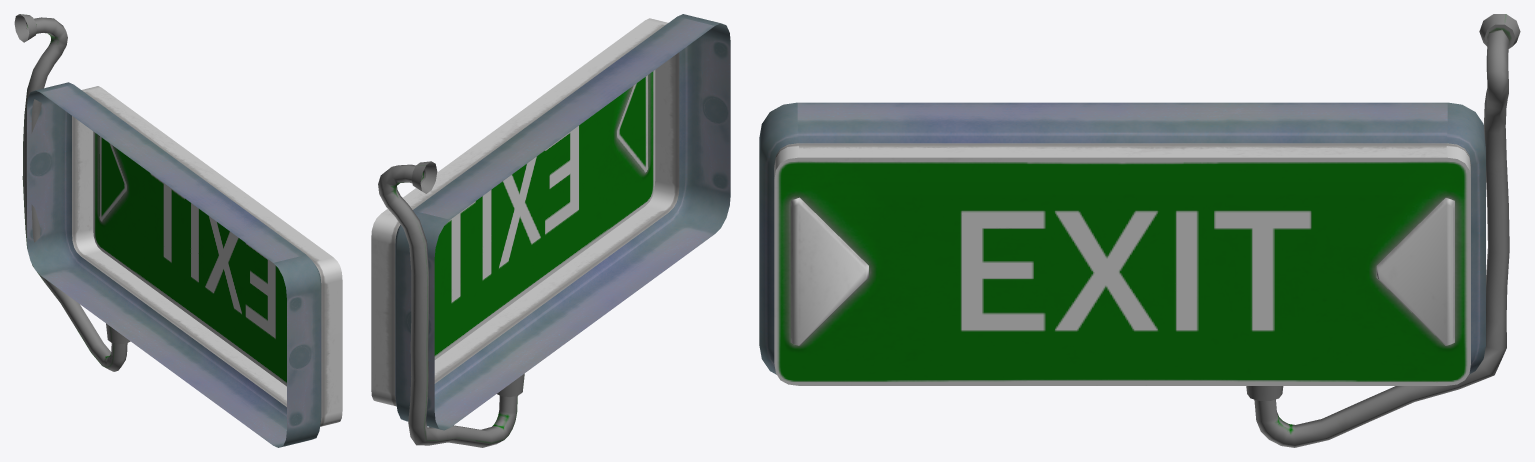
File: SM_Exit_01.FBX
3 renders of one model, left to right at view 1: azimuth 30°, elevation 25°; view 2: azimuth 150°, elevation 25°; view 3: azimuth 270°, elevation 25°, orthographic. The views are drawn at different scales.
Parts seen in each view (by area): view 1: SM_Exit_01_LOD0; view 2: SM_Exit_01_LOD0; view 3: SM_Exit_01_LOD0.
Part boxes in pixels (x1=…): SM_Exit_01_LOD0: x1=14, y1=14, x2=342, y2=447; SM_Exit_01_LOD0: x1=371, y1=14, x2=730, y2=447; SM_Exit_01_LOD0: x1=759, y1=14, x2=1520, y2=447.
Size of the model in its own units: 7.11 by 50.73 by 31.22.
